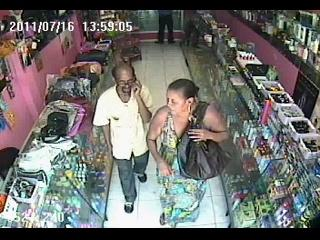Normal: (146, 78, 234, 226), (92, 63, 154, 214), (154, 10, 176, 44), (75, 50, 108, 66)
